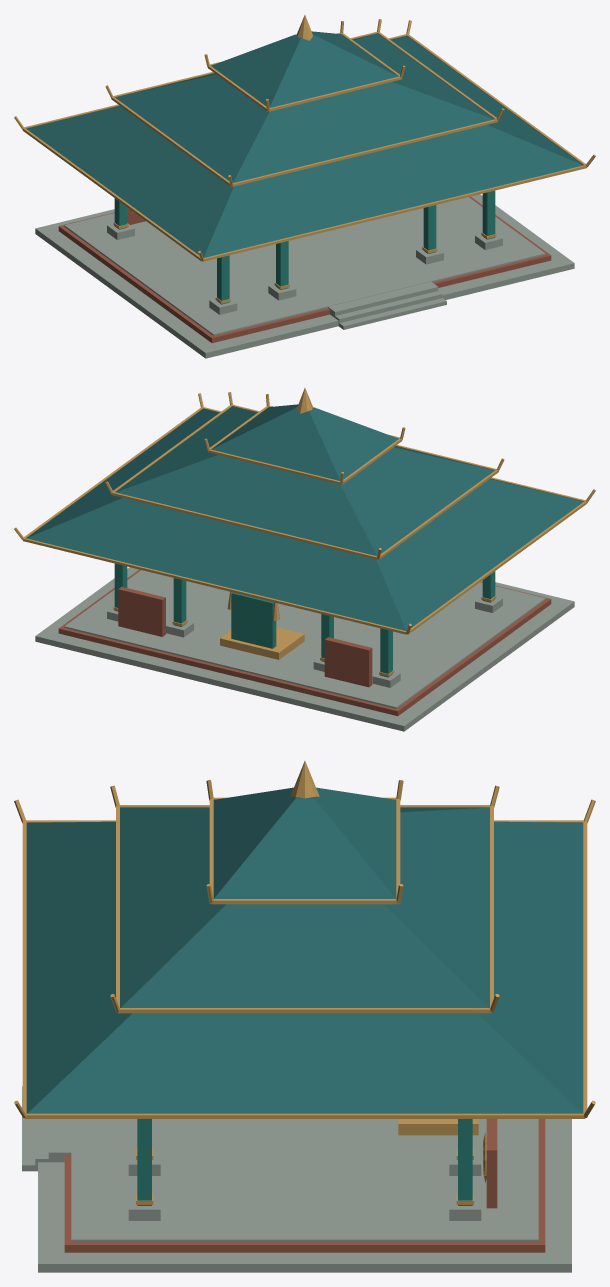
File: keraton-samudra-sunyi.glb
3 renders of one model, top to bottom at view 1: azimuth 30°, elevation 25°; view 2: azimuth 150°, elevation 25°; view 3: azimuth 270°, elevation 25°, orthographic. The views are drawn at different scales.
Parts seen in each view (by area): view 1: Keraton_Samudra_Sunyi; view 2: Keraton_Samudra_Sunyi; view 3: Keraton_Samudra_Sunyi.
Boxes of the visible parts, x1=… form: Keraton_Samudra_Sunyi: x1=14, y1=15, x2=595, y2=358; Keraton_Samudra_Sunyi: x1=14, y1=388, x2=595, y2=731; Keraton_Samudra_Sunyi: x1=14, y1=761, x2=595, y2=1272.
Size of the model in its own units: 26.94 by 15.35 by 21.8.
